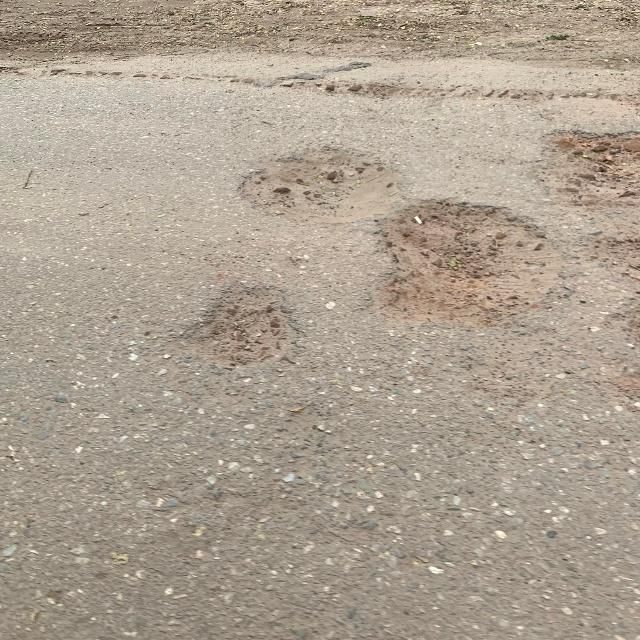Pothole: (394, 212, 528, 318), (248, 130, 367, 242), (203, 272, 297, 362), (541, 129, 640, 207)
Surface Erosion: (3, 2, 640, 132)
